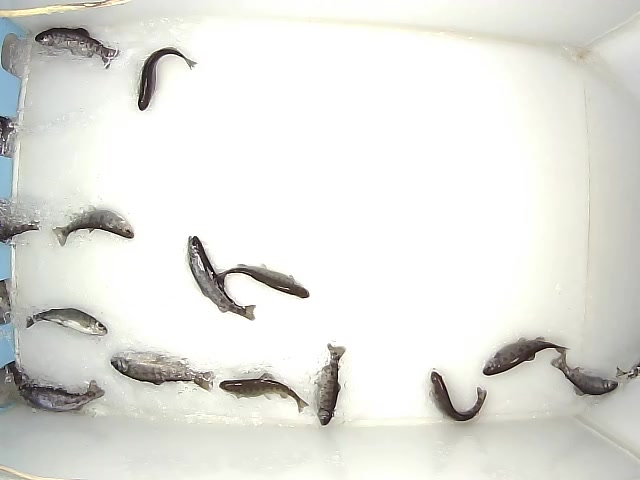fish: (187, 235, 256, 322), (109, 349, 215, 393), (136, 45, 198, 112), (33, 26, 122, 70), (218, 372, 309, 415), (481, 334, 572, 376), (51, 204, 135, 247), (212, 264, 310, 300), (550, 350, 619, 398), (17, 379, 106, 416), (428, 370, 488, 423), (315, 342, 347, 427), (24, 307, 108, 338)
